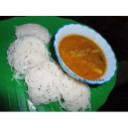idiyappam: (22, 66, 60, 100), (52, 75, 91, 108), (6, 43, 50, 70), (15, 19, 49, 42)
